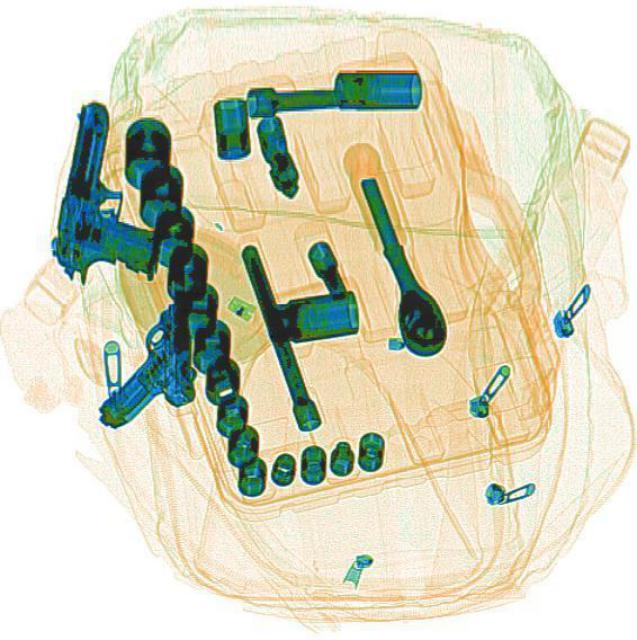Gun: (44, 96, 180, 296), (89, 250, 198, 426)
